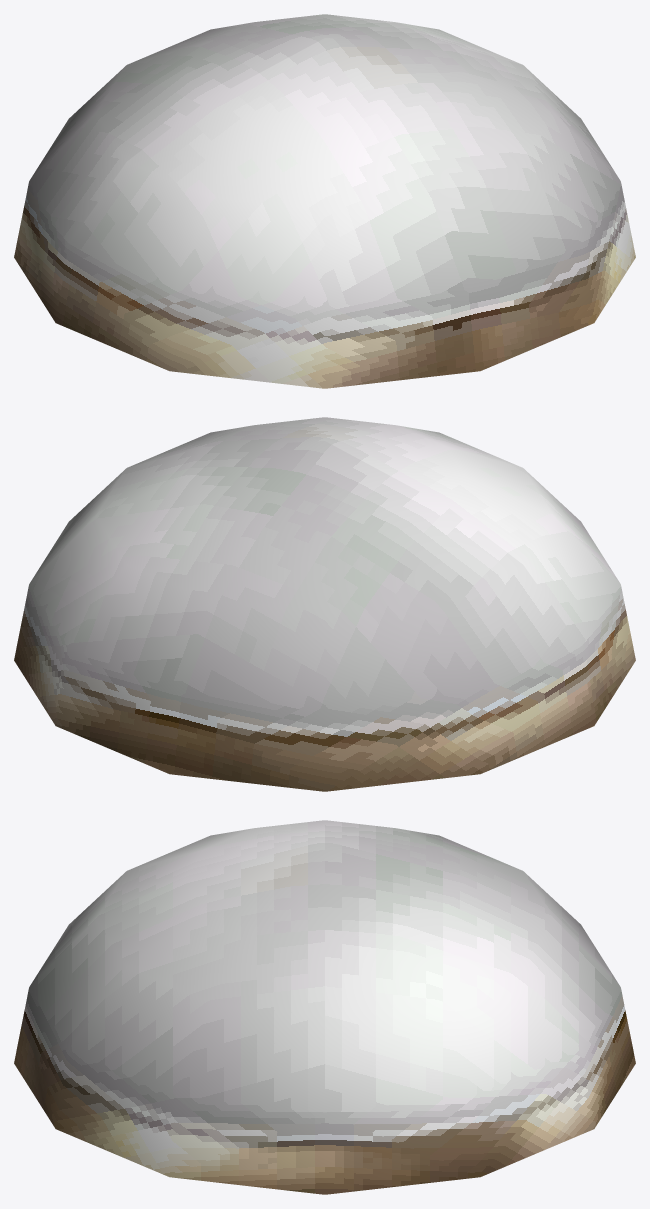
File: ceilinglight01.fbx
3 views of the same model, one above another, from view 1: azimuth 30°, elevation 25°; view 2: azimuth 150°, elevation 25°; view 3: azimuth 270°, elevation 25° (orthographic).
Parts seen in each view (by area): view 1: mesh_0; view 2: mesh_0; view 3: mesh_0.
Part boxes in pixels (box(x1,y1,x2,y2)): mesh_0: box(14, 14, 635, 388); mesh_0: box(14, 417, 635, 791); mesh_0: box(14, 820, 635, 1194).
Bounding box in the file's own units: 54.52 × 21.23 × 54.52.
1 material, 1 textured.
